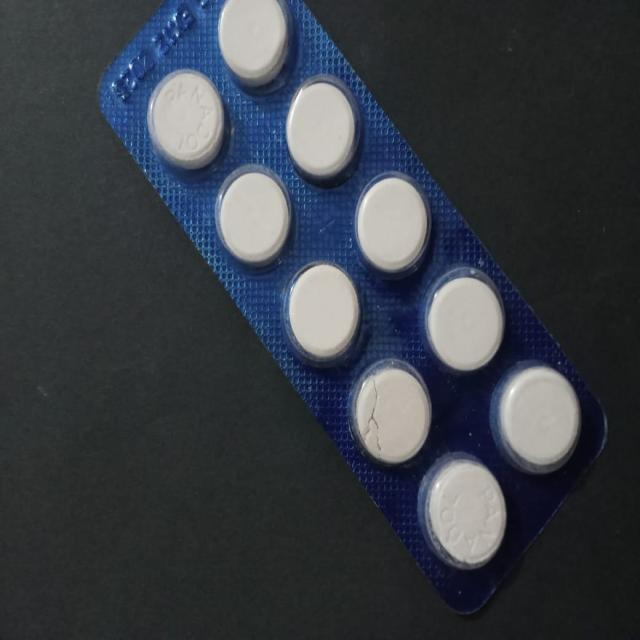defect: (348, 359, 437, 466)
